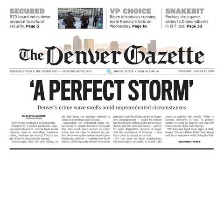news_paper: (5, 1, 217, 150)
